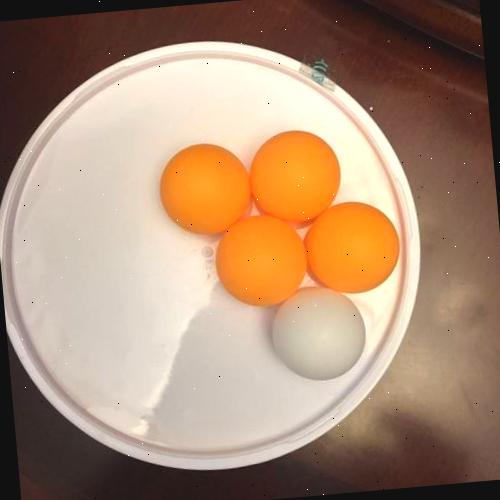ball: (264, 278, 372, 386), (298, 194, 404, 300), (242, 121, 346, 229), (152, 136, 256, 242), (208, 207, 313, 311)
